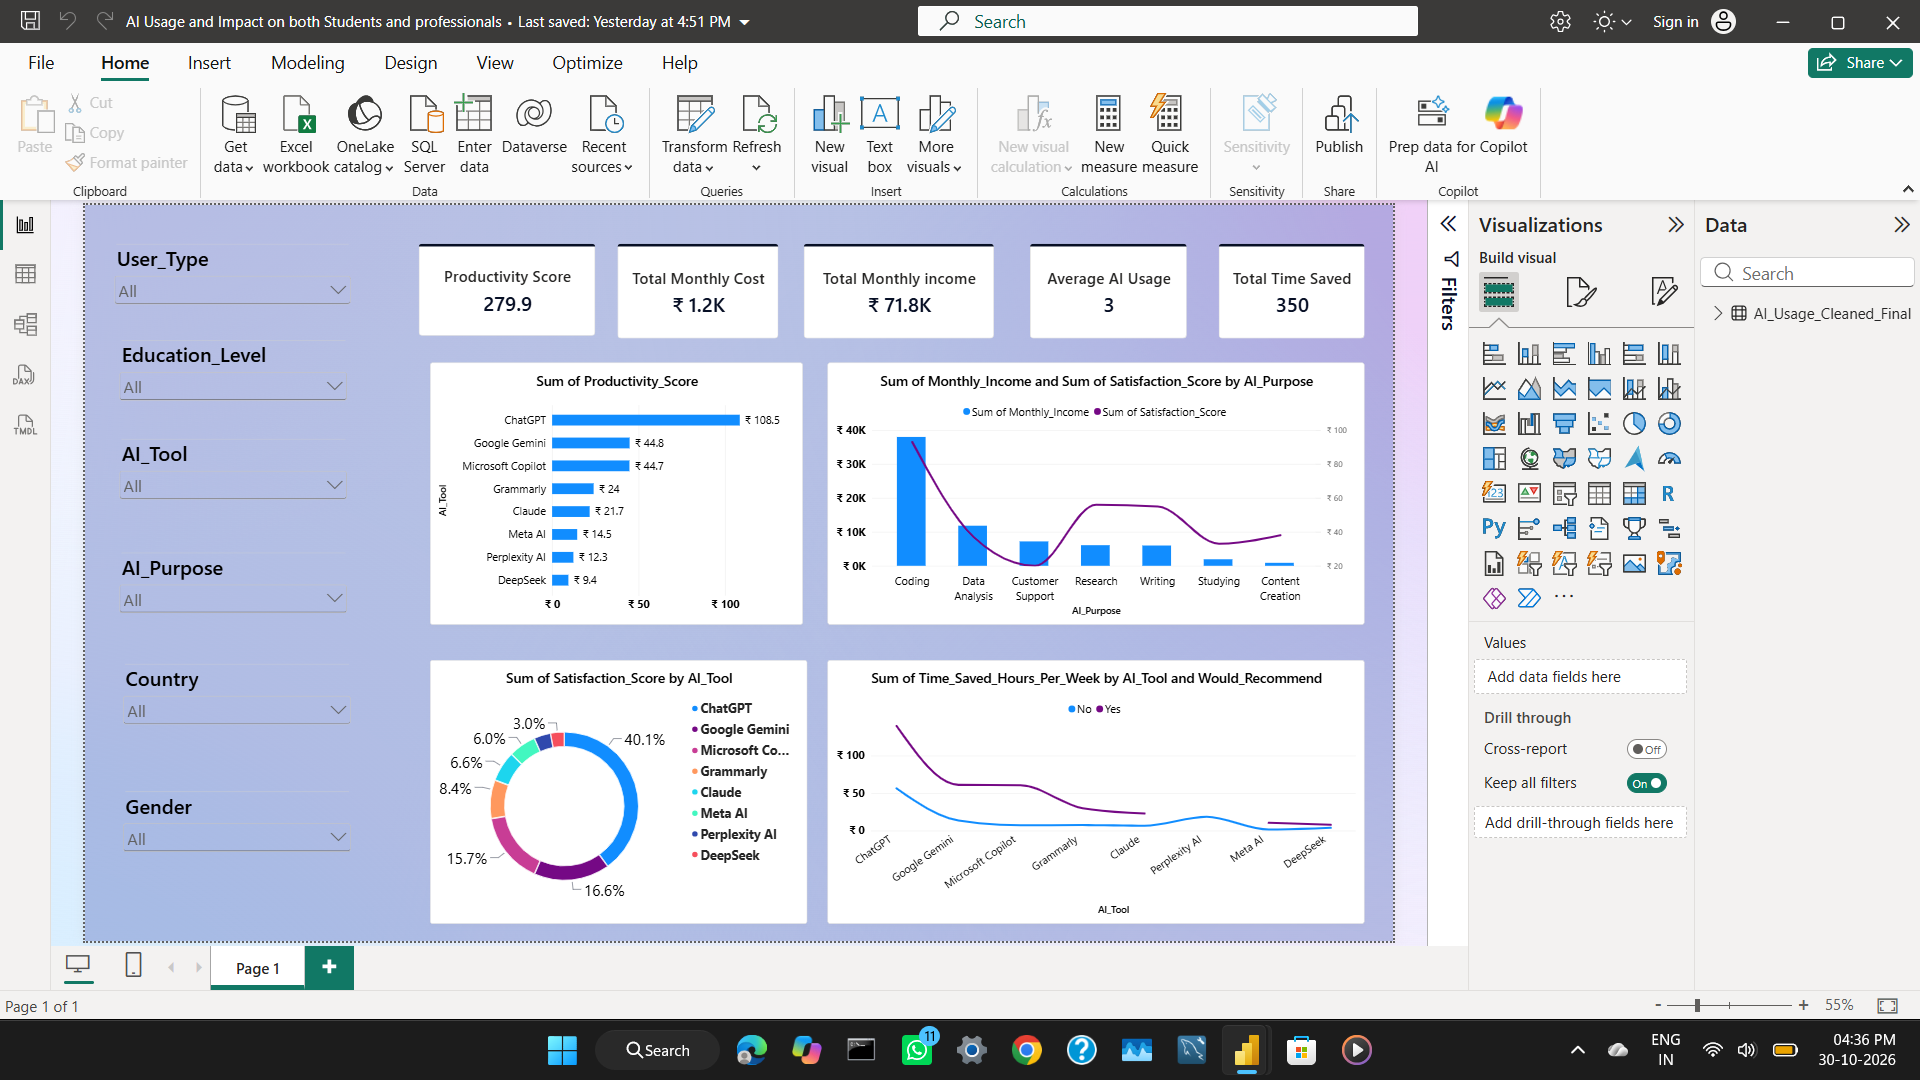

Layout of this report page (visuals, bound fields, positions):
{"tool":"powerbi","page":{"name":"Page 1","canvas":[1920,1080],"ordinal":0},"visuals":[{"type":"cardVisual","fields":{"Data":["AI_Usage_Cleaned_Final.Average ai usage"]},"box":[1387.3,57.6,230.5,140],"z":0},{"type":"cardVisual","fields":{"Data":["AI_Usage_Cleaned_Final.Monthly income"]},"box":[1053.9,57.6,279.9,140],"z":1000},{"type":"cardVisual","fields":{"Data":["AI_Usage_Cleaned_Final.Total monthly cost"]},"box":[782.2,57.6,236.7,140],"z":2000},{"type":"cardVisual","fields":{"Data":["AI_Usage_Cleaned_Final.time saved"]},"box":[1663.1,57.6,214.1,140],"z":3000},{"type":"cardVisual","fields":{"Data":["AI_Usage_Cleaned_Final.productivity score"]},"box":[489.9,57.6,259.3,135.8],"z":4000},{"type":"slicer","fields":{"Values":["AI_Usage_Cleaned_Final.User_Type"]},"box":[39.1,57.6,356.1,121.4],"z":5000},{"type":"slicer","fields":{"Values":["AI_Usage_Cleaned_Final.Education_Level"]},"box":[45.3,197.6,343.7,146.1],"z":6000},{"type":"slicer","fields":{"Values":["AI_Usage_Cleaned_Final.AI_Tool"]},"box":[45.3,343.7,343.7,150.3],"z":7000},{"type":"slicer","fields":{"Values":["AI_Usage_Cleaned_Final.AI_Purpose"]},"box":[45.3,510.5,343.7,162.6],"z":8000},{"type":"slicer","fields":{"Values":["AI_Usage_Cleaned_Final.Country"]},"box":[51.5,673.1,343.7,187.3],"z":9000},{"type":"slicer","fields":{"Values":["AI_Usage_Cleaned_Final.Gender"]},"box":[51.5,860.4,343.7,162.6],"z":10000},{"type":"barChart","title":"Sum of Productivity_Score","fields":{"Category":["AI_Usage_Cleaned_Final.AI_Tool"],"Y":["Sum(AI_Usage_Cleaned_Final.Productivity_Score)"]},"box":[506.3,230.5,547.5,384.9],"z":11000},{"type":"lineStackedColumnComboChart","fields":{"Category":["AI_Usage_Cleaned_Final.AI_Purpose"],"Y":["Sum(AI_Usage_Cleaned_Final.Monthly_Income)"],"Y2":["Sum(AI_Usage_Cleaned_Final.Satisfaction_Score)"]},"box":[1088.9,230.5,788.3,384.9],"z":12000},{"type":"donutChart","fields":{"Category":["AI_Usage_Cleaned_Final.AI_Tool"],"Y":["Sum(AI_Usage_Cleaned_Final.Satisfaction_Score)"]},"box":[506.3,666.9,553.7,387],"z":13000},{"type":"stackedAreaChart","fields":{"Category":["AI_Usage_Cleaned_Final.AI_Tool"],"Series":["AI_Usage_Cleaned_Final.Would_Recommend"],"Y":["Sum(AI_Usage_Cleaned_Final.Time_Saved_Hours_Per_Week)"]},"box":[1089,667,788,387],"z":14000}]}

Visuals, with their boxes on the page's 1920x1080 design canvas (x1, y1, x2, y2). These are canvas units, not pixel positions in the 1920x1080 screenshot, which may show the page scaled, cropped or inside an application window:
cardVisual - AI_Usage_Cleaned_Final.Average ai usage: left=1387, top=58, right=1618, bottom=198
cardVisual - AI_Usage_Cleaned_Final.Monthly income: left=1054, top=58, right=1334, bottom=198
cardVisual - AI_Usage_Cleaned_Final.Total monthly cost: left=782, top=58, right=1019, bottom=198
cardVisual - AI_Usage_Cleaned_Final.time saved: left=1663, top=58, right=1877, bottom=198
cardVisual - AI_Usage_Cleaned_Final.productivity score: left=490, top=58, right=749, bottom=193
slicer - AI_Usage_Cleaned_Final.User_Type: left=39, top=58, right=395, bottom=179
slicer - AI_Usage_Cleaned_Final.Education_Level: left=45, top=198, right=389, bottom=344
slicer - AI_Usage_Cleaned_Final.AI_Tool: left=45, top=344, right=389, bottom=494
slicer - AI_Usage_Cleaned_Final.AI_Purpose: left=45, top=510, right=389, bottom=673
slicer - AI_Usage_Cleaned_Final.Country: left=52, top=673, right=395, bottom=860
slicer - AI_Usage_Cleaned_Final.Gender: left=52, top=860, right=395, bottom=1023
"Sum of Productivity_Score" barChart: left=506, top=230, right=1054, bottom=615
lineStackedColumnComboChart - AI_Usage_Cleaned_Final.AI_Purpose x Sum(AI_Usage_Cleaned_Final.Monthly_Income): left=1089, top=230, right=1877, bottom=615
donutChart - AI_Usage_Cleaned_Final.AI_Tool x Sum(AI_Usage_Cleaned_Final.Satisfaction_Score): left=506, top=667, right=1060, bottom=1054
stackedAreaChart - AI_Usage_Cleaned_Final.AI_Tool x AI_Usage_Cleaned_Final.Would_Recommend: left=1089, top=667, right=1877, bottom=1054
